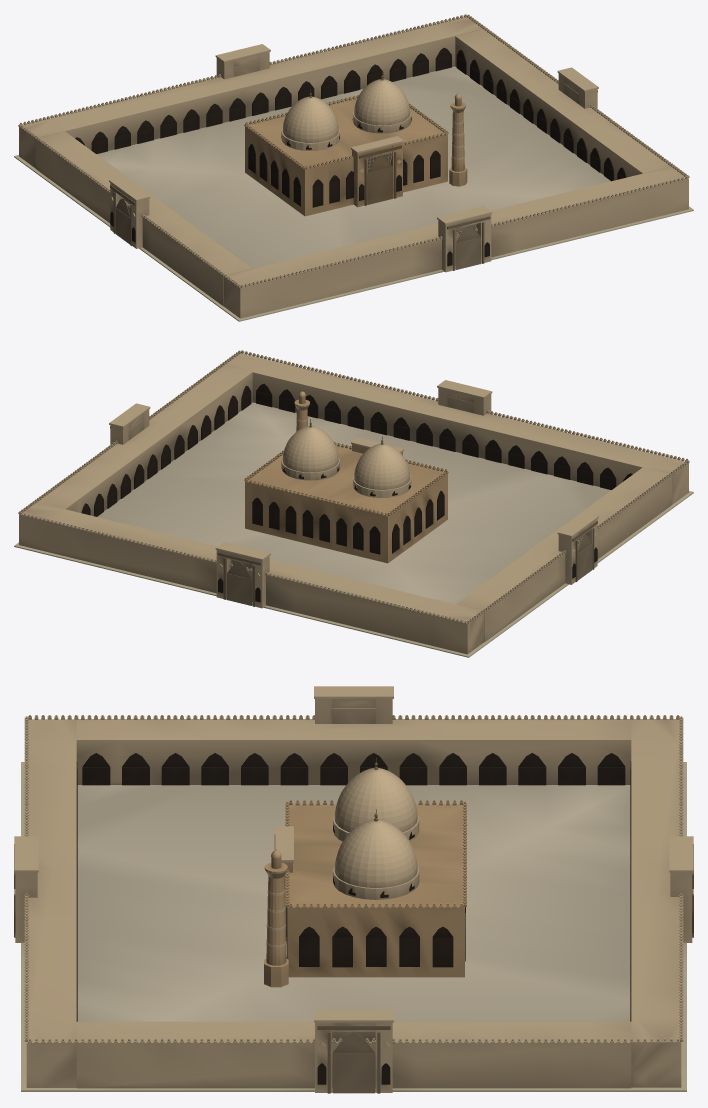
File: kazimayn-1200.glb
3 renders of one model, top to bottom at view 1: azimuth 30°, elevation 25°; view 2: azimuth 150°, elevation 25°; view 3: azimuth 270°, elevation 25°, orthographic. The views are drawn at different scales.
Visible parts, largest first — view 1: p0_court, p1_gates, p2_shrine, p3_domes; view 2: p0_court, p1_gates, p2_shrine, p3_domes; view 3: p0_court, p1_gates, p2_shrine, p3_domes.
Part boxes in pixels (box(x1,y1,x2,y2)): p0_court: box(14, 14, 693, 321); p1_gates: box(96, 44, 610, 272); p2_shrine: box(244, 94, 448, 216); p3_domes: box(281, 72, 467, 186); p0_court: box(14, 350, 693, 657); p1_gates: box(97, 380, 611, 608); p2_shrine: box(244, 437, 448, 563); p3_domes: box(281, 391, 411, 497); p0_court: box(21, 715, 686, 1091); p1_gates: box(14, 686, 693, 1093); p2_shrine: box(274, 800, 466, 977); p3_domes: box(264, 757, 419, 987).
Bounding box in the file's own units: 143 × 28.68 × 123.
